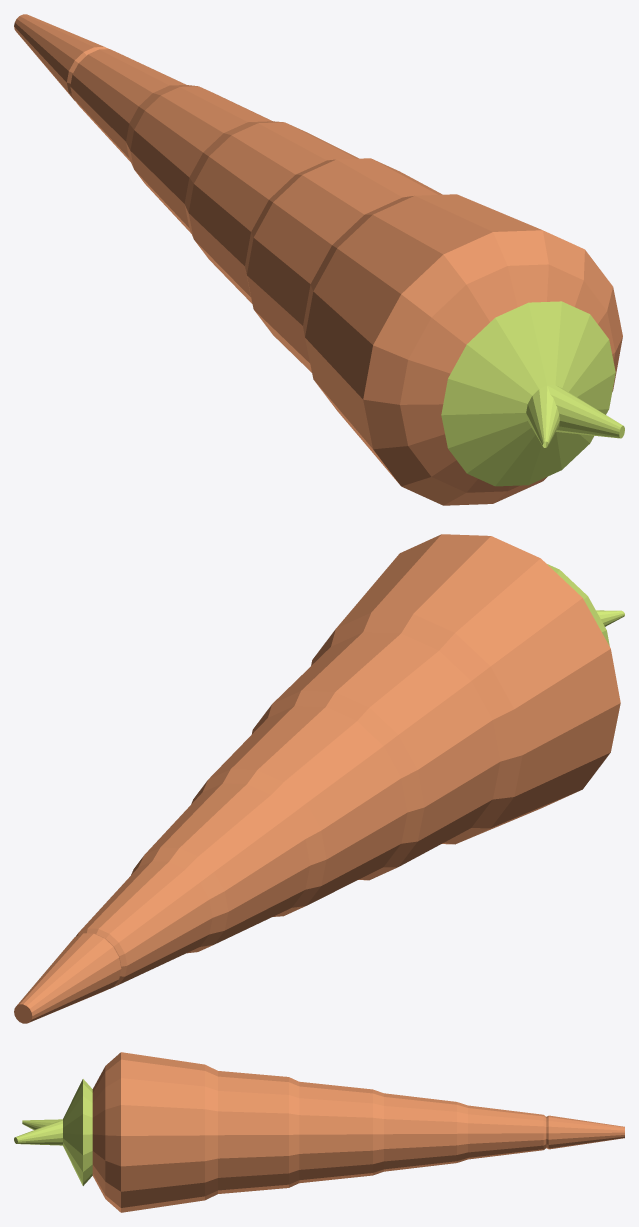
File: fruit01.fbx
3 views of the same model, one above another, from view 1: azimuth 30°, elevation 25°; view 2: azimuth 150°, elevation 25°; view 3: azimuth 270°, elevation 25° (orthographic). The views are drawn at different scales.
Visible parts, largest first — view 1: Cylinder; view 2: Cylinder; view 3: Cylinder.
Boxes of the visible parts, x1,y1,x2,y2 form: Cylinder: (14, 14, 624, 505); Cylinder: (14, 534, 624, 1023); Cylinder: (14, 1052, 624, 1212).
Size of the model in its own units: 0.1104 by 0.1104 by 0.4191.
